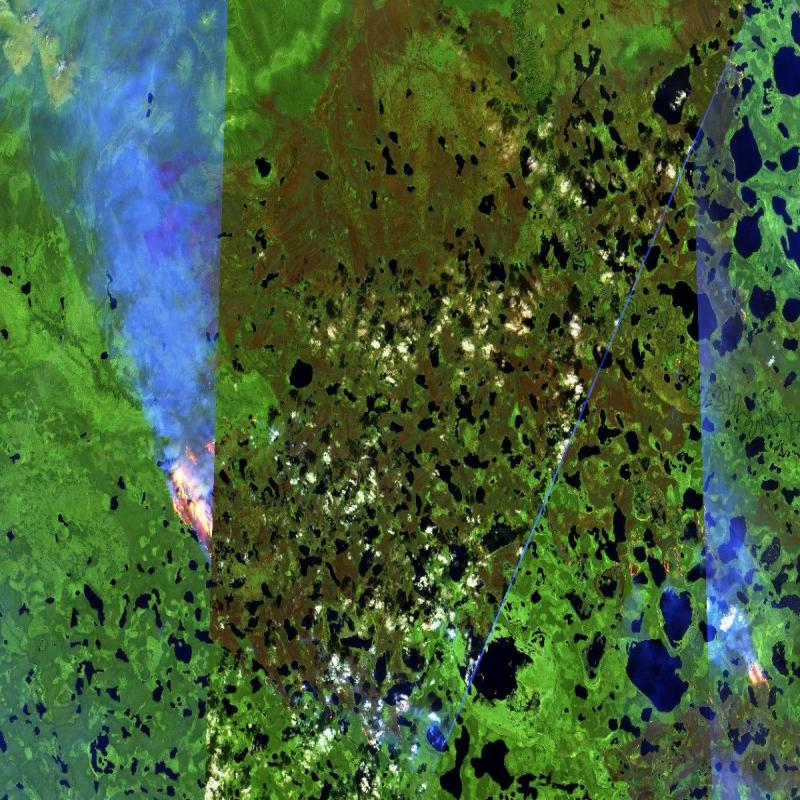fire: (158, 410, 222, 565), (740, 639, 781, 707)
